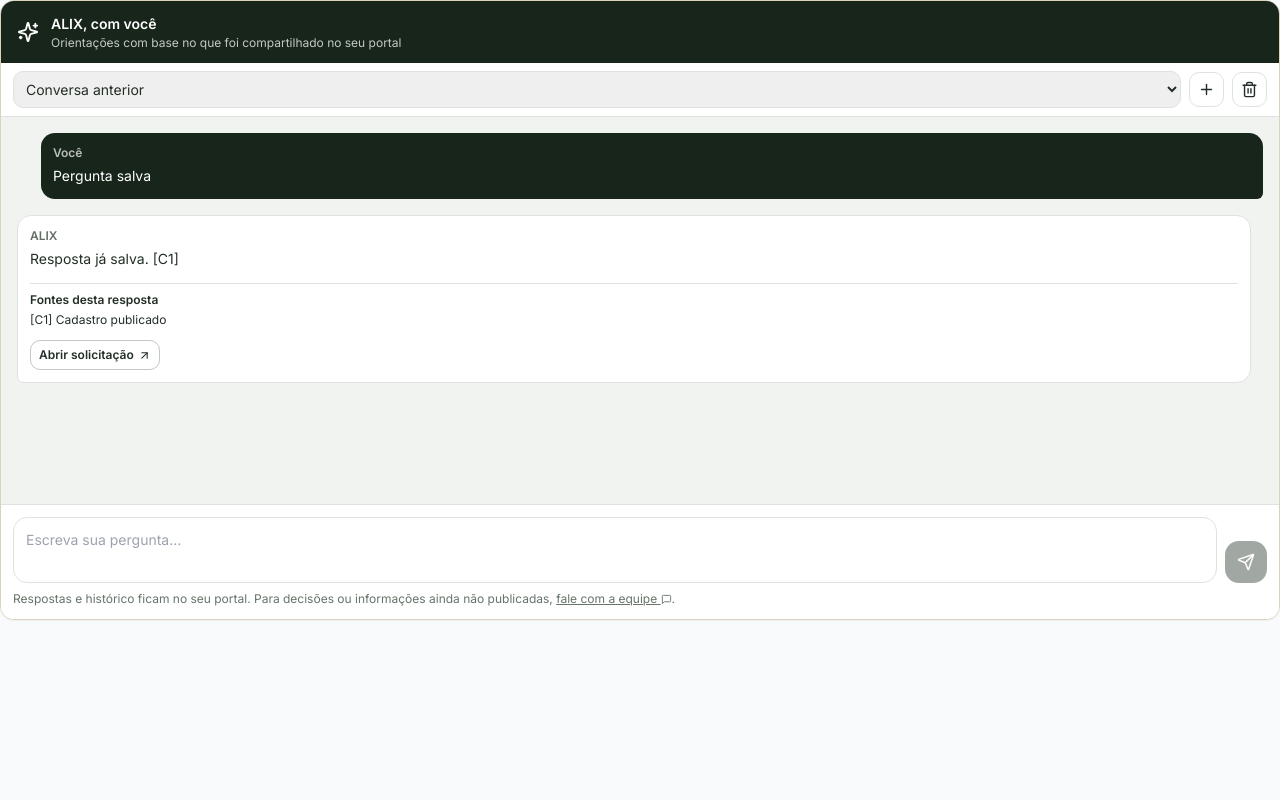
Test: ALIX do cliente: histórico do servidor, navegação e retomada › falha de exclusão mantém a conversa e pede ação explícita antes de apagar
Click the button named "Apagar conversa" at (1250, 89), box [1232,72,1267,107]
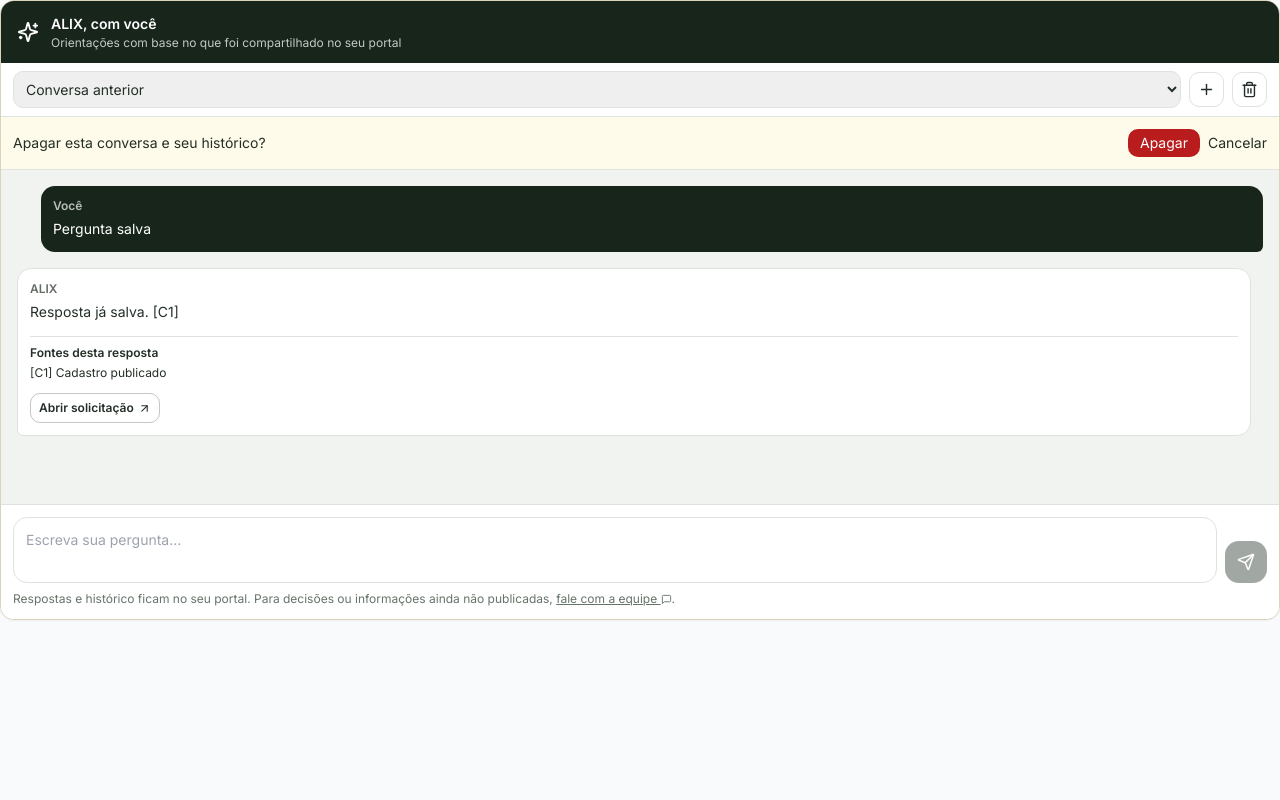
Expected: the button "Apagar" is shown
Click the button "Apagar" at (1164, 143), box [1128,129,1200,157]
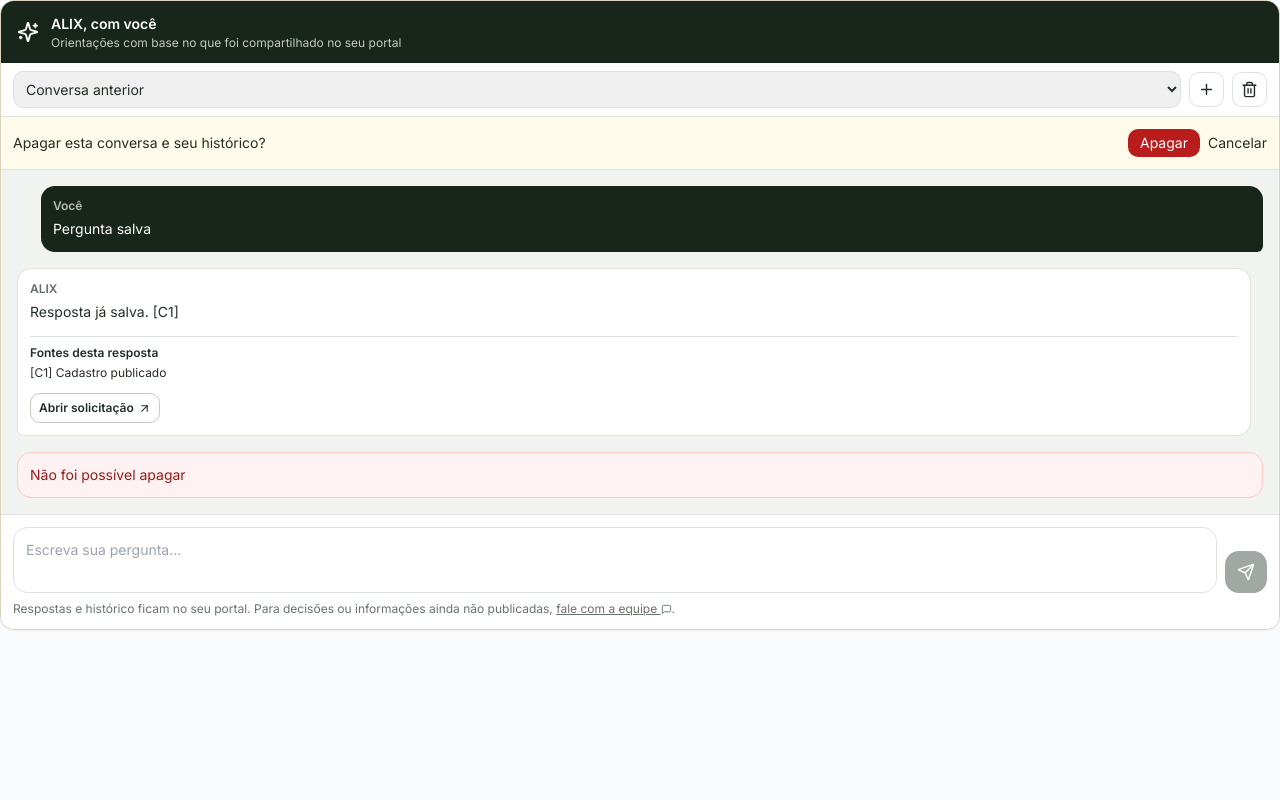
Expected: the text "Resposta já salva" is shown, [30,303,179,320]
Expected: the text "Não foi possível apagar" is shown, [17,452,1263,498]
